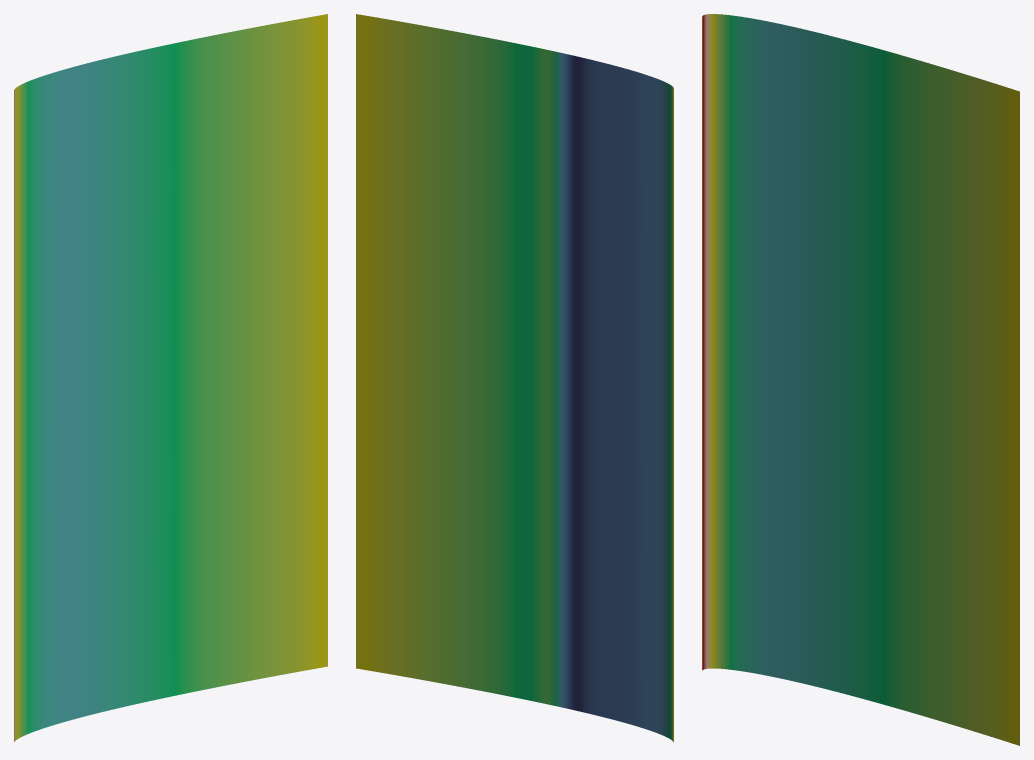
Rendered from morphing_wing_30.glb.
The picture shows the model from 3 angles, left to right: view 1: azimuth 30°, elevation 25°; view 2: azimuth 150°, elevation 25°; view 3: azimuth 330°, elevation 25°; orthographic projection.
Parts seen in each view (by area): view 1: part_0_0; view 2: part_0_0; view 3: part_0_0.
Boxes of the visible parts, <box> form: part_0_0: <box>14,14,327,742</box>; part_0_0: <box>356,14,673,742</box>; part_0_0: <box>702,14,1019,745</box>.
Bounding box in the file's own units: 1.01 × 2 × 0.1202.
